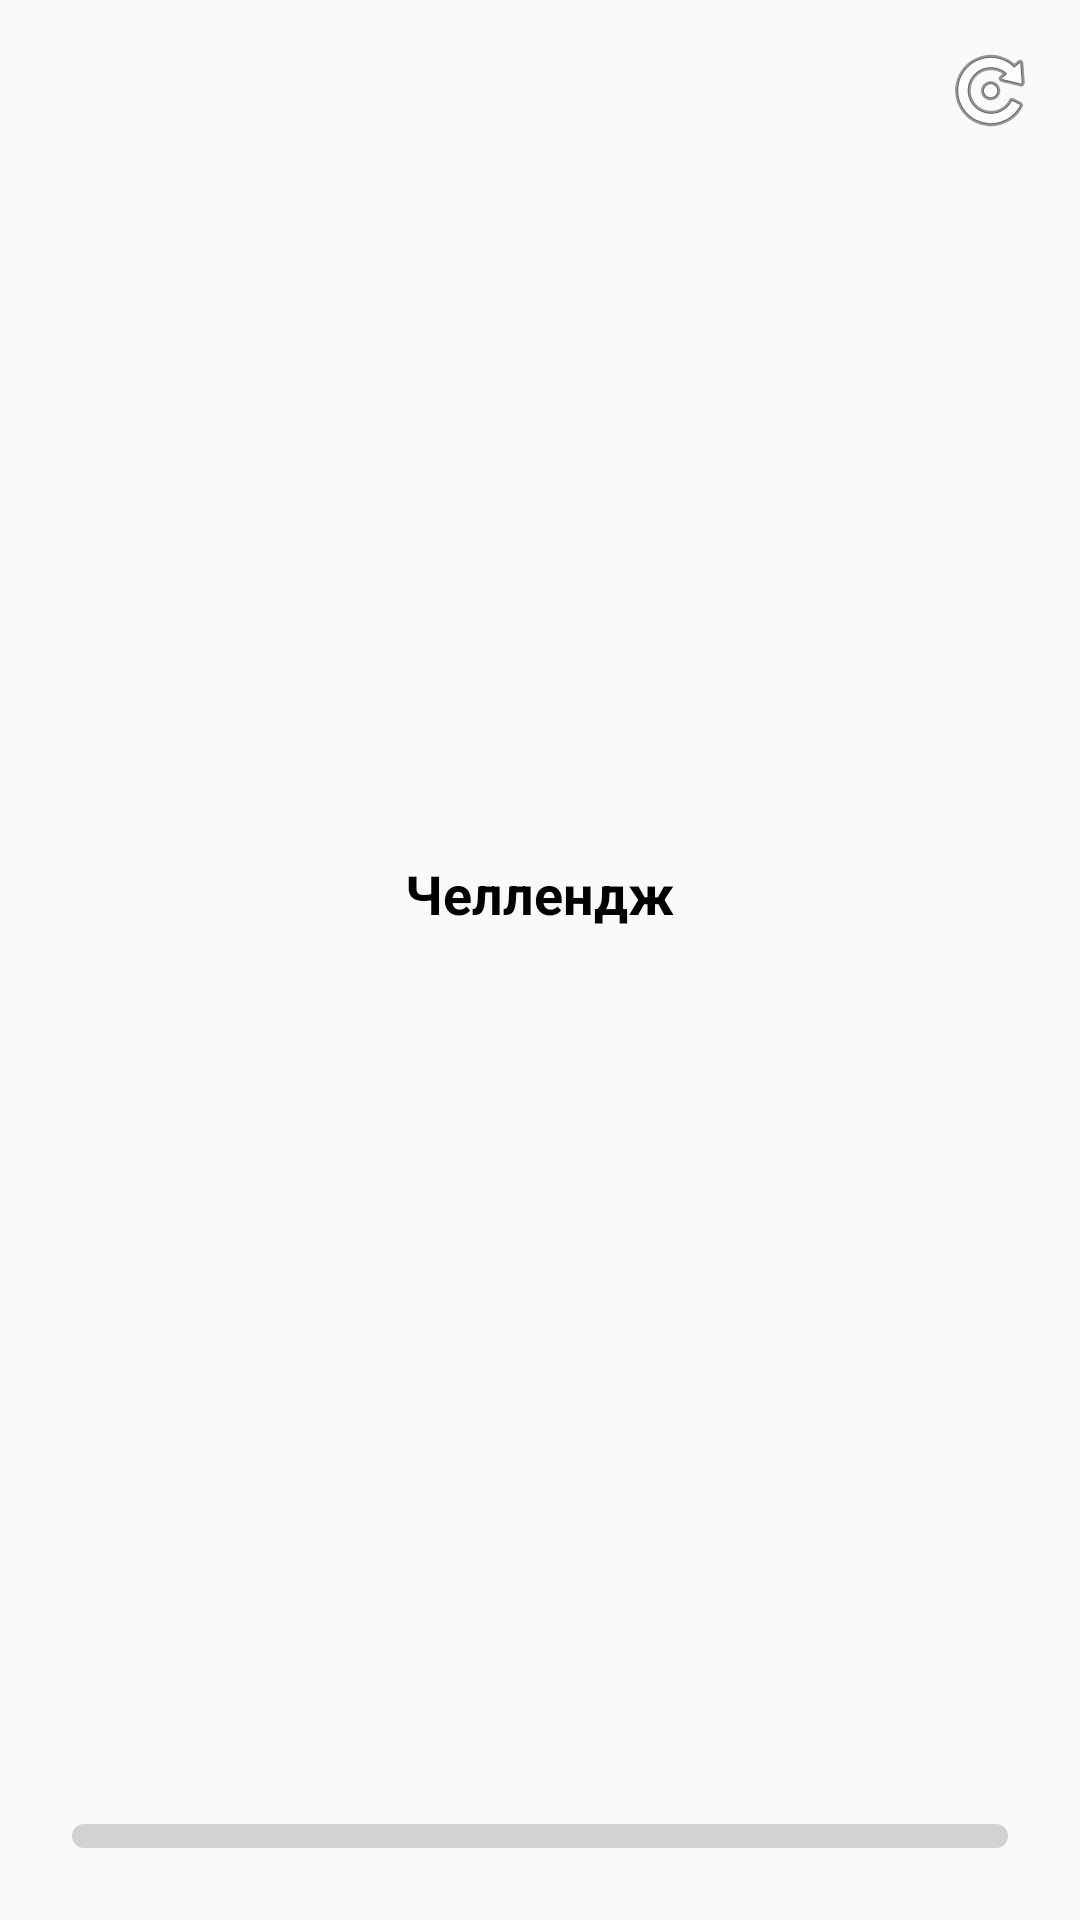

Icon bounding boxes for this 1080*1920 phone screenshot, format rect(x1, y1, x2, y2):
rotate: rect(955, 55, 1025, 126)
